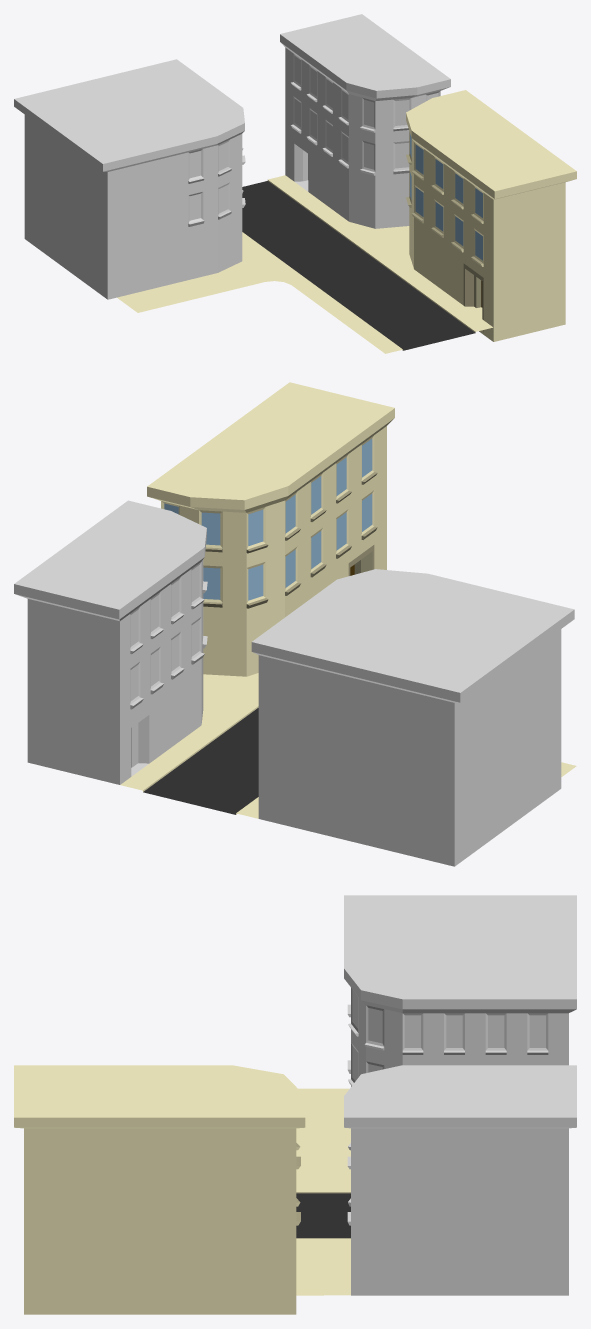
File: StartingRoom_Scenery.fbx
3 renders of one model, top to bottom at view 1: azimuth 30°, elevation 25°; view 2: azimuth 150°, elevation 25°; view 3: azimuth 270°, elevation 25°, orthographic. The views are drawn at different scales.
Parts seen in each view (by area): view 1: Plane.388, Plane.412, Plane.387, Plane.381; view 2: Plane.388, Plane.387, Plane.412, Plane.381; view 3: Plane.412, Plane.387, Plane.388, Plane.381.
Part boxes in pixels (bbox=[...]): Plane.388: bbox=[14, 59, 245, 299]; Plane.412: bbox=[406, 90, 576, 341]; Plane.387: bbox=[280, 14, 450, 228]; Plane.381: bbox=[117, 175, 492, 353]; Plane.388: bbox=[251, 569, 574, 866]; Plane.387: bbox=[14, 500, 207, 784]; Plane.412: bbox=[147, 382, 394, 676]; Plane.381: bbox=[120, 673, 576, 818]; Plane.412: bbox=[14, 1065, 305, 1314]; Plane.387: bbox=[344, 1065, 576, 1295]; Plane.388: bbox=[344, 895, 576, 1086]; Plane.381: bbox=[296, 1088, 350, 1295].
Bounding box in the file's own units: 1931 × 817 × 2066.
